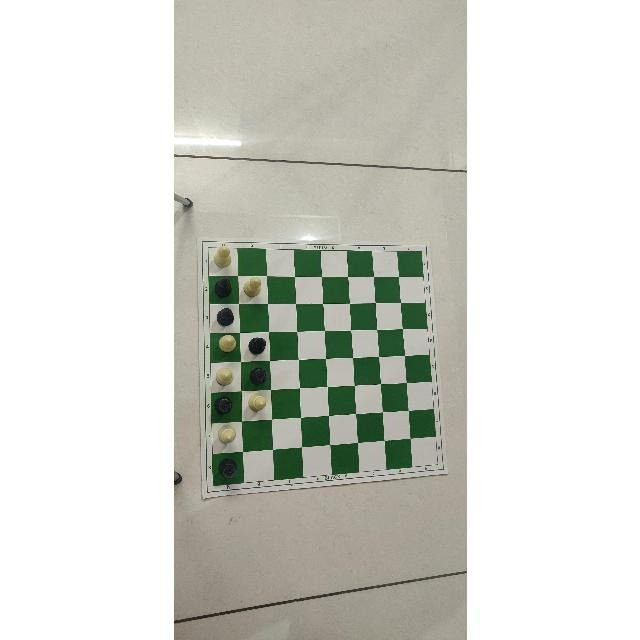black-bishop: (211, 273, 235, 297), (216, 455, 239, 480), (212, 303, 235, 327), (245, 335, 270, 357), (246, 365, 270, 387), (212, 396, 236, 416)
white-bishop: (210, 421, 239, 449), (208, 240, 234, 264), (240, 278, 264, 302), (247, 390, 270, 414), (214, 332, 237, 355), (212, 368, 235, 386)
